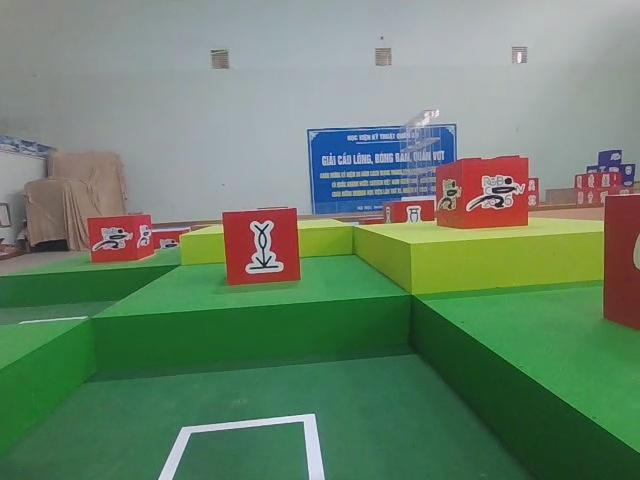R1: (439, 161, 527, 225), (85, 215, 156, 262)
R2 Real: (220, 210, 300, 282)
